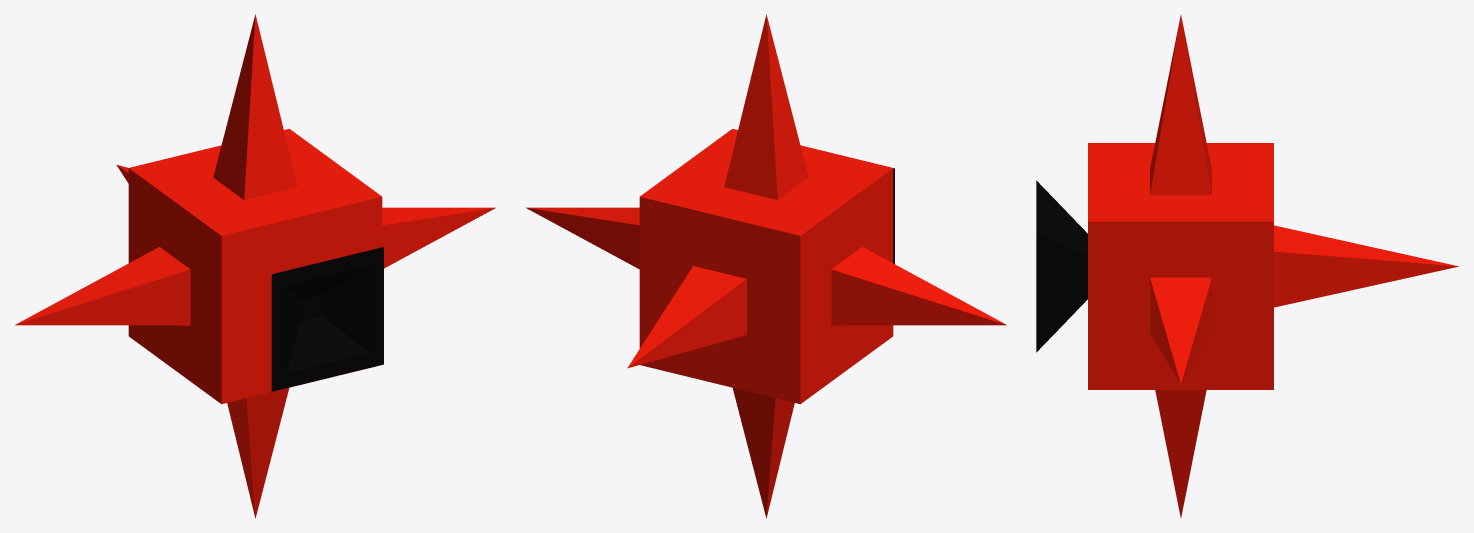
Rendered from SpikyTroyaner.fbx.
3 renders of one model, left to right at view 1: azimuth 30°, elevation 25°; view 2: azimuth 150°, elevation 25°; view 3: azimuth 270°, elevation 25°, orthographic.
Visible parts, largest first — view 1: troyaner_4; view 2: troyaner_4; view 3: troyaner_4.
Boxes of the visible parts, x1,y1,x2,y2 form: troyaner_4: (15,14,495,518); troyaner_4: (526,14,1006,518); troyaner_4: (1036,15,1459,517).
Size of the model in its own units: 600 by 600 by 456.
